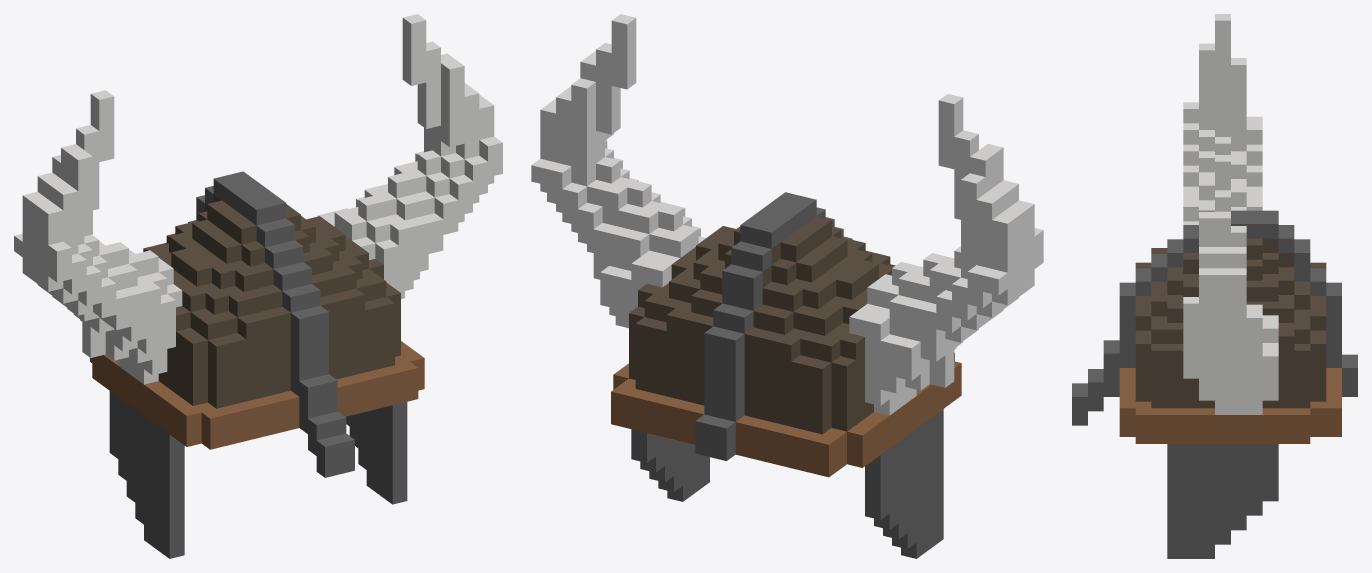
File: drakar.glb
The picture shows the model from 3 angles, left to right: view 1: azimuth 30°, elevation 25°; view 2: azimuth 150°, elevation 25°; view 3: azimuth 270°, elevation 25°; orthographic projection. The views are drawn at different scales.
Visible parts, largest first — view 1: albueran; view 2: albueran; view 3: albueran.
Part boxes in pixels (x1=…): albueran: x1=14, y1=14, x2=502, y2=558; albueran: x1=531, y1=14, x2=1043, y2=558; albueran: x1=1072, y1=14, x2=1357, y2=558.
Bounding box in the file's own units: 1.29 × 1.25 × 0.774.
1 material, 1 textured.
